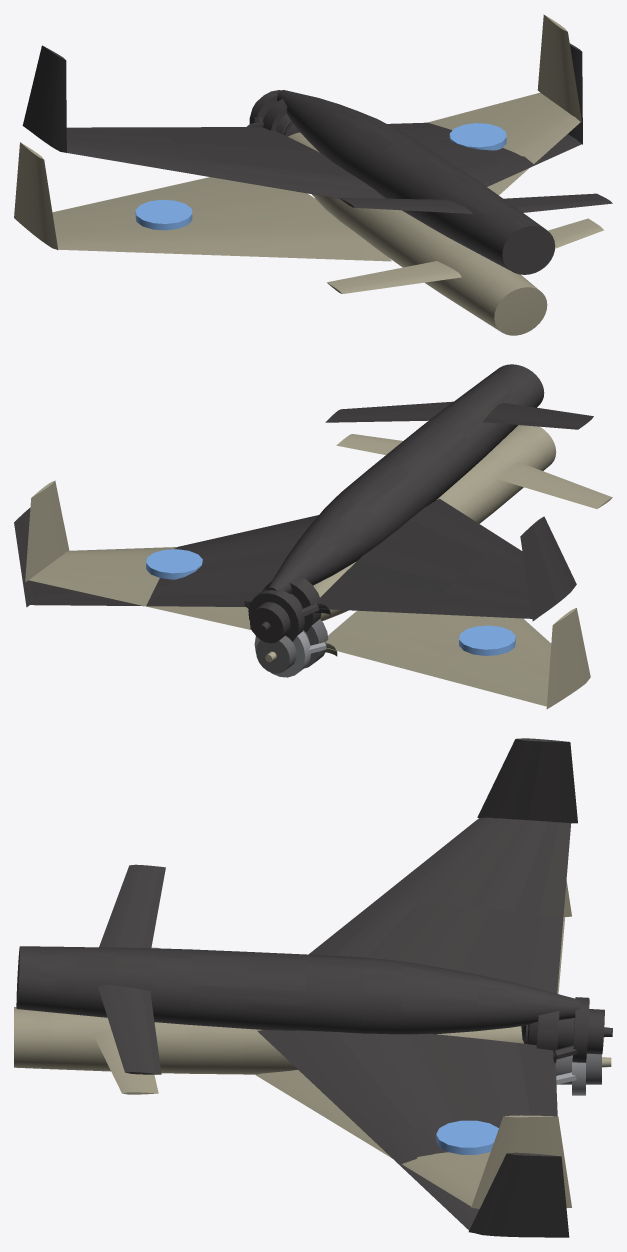
File: harop__harop.glb
3 renders of one model, top to bottom at view 1: azimuth 30°, elevation 25°; view 2: azimuth 150°, elevation 25°; view 3: azimuth 270°, elevation 25°, orthographic. The views are drawn at different scales.
Visible parts, largest first — view 1: Fuselage_Mesh, Wreck; view 2: Wreck, Fuselage_Mesh, Propeller_Mesh; view 3: Wreck, Fuselage_Mesh, Propeller_Mesh.
Boxes of the visible parts, bbox=[...] form: Fuselage_Mesh: bbox=[14, 14, 603, 335]; Wreck: bbox=[22, 43, 612, 274]; Wreck: bbox=[14, 364, 593, 643]; Fuselage_Mesh: bbox=[25, 425, 612, 709]; Propeller_Mesh: bbox=[250, 619, 337, 677]; Wreck: bbox=[16, 738, 612, 1237]; Fuselage_Mesh: bbox=[14, 881, 571, 1209]; Propeller_Mesh: bbox=[555, 1053, 611, 1095].
Size of what is drawn, in the model's own units: 3.12 by 1.08 by 2.61.
